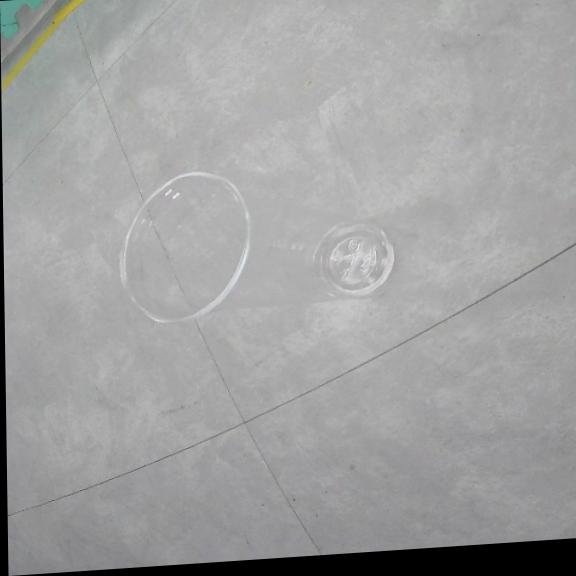Plastik: (121, 170, 394, 321)
